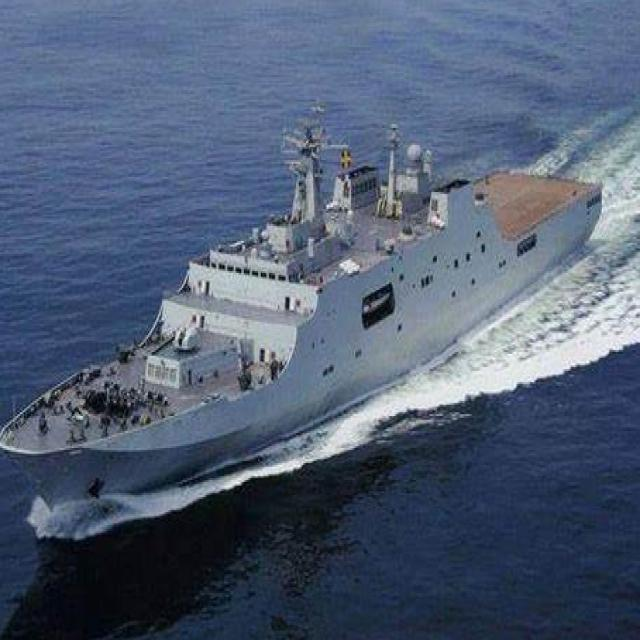navalvessels: (0, 79, 617, 459)
